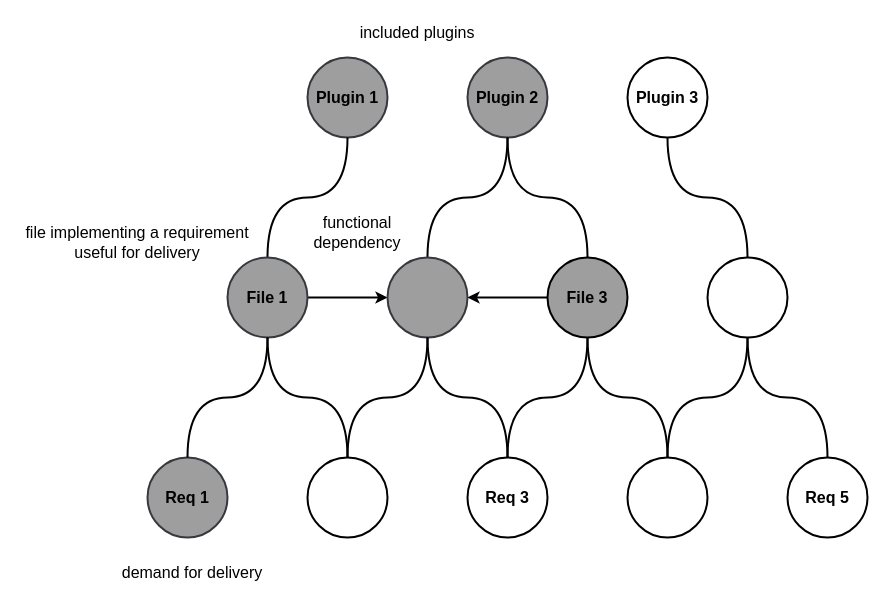
The diagram is 885 pixels wide and 604 high, and some of its shapes have lost their labels. Each missing label, with the box of its shape:
File 2: (386, 256, 468, 338)
File 4: (706, 256, 788, 338)
Req 2: (306, 456, 388, 538)
Req 4: (626, 456, 708, 538)
